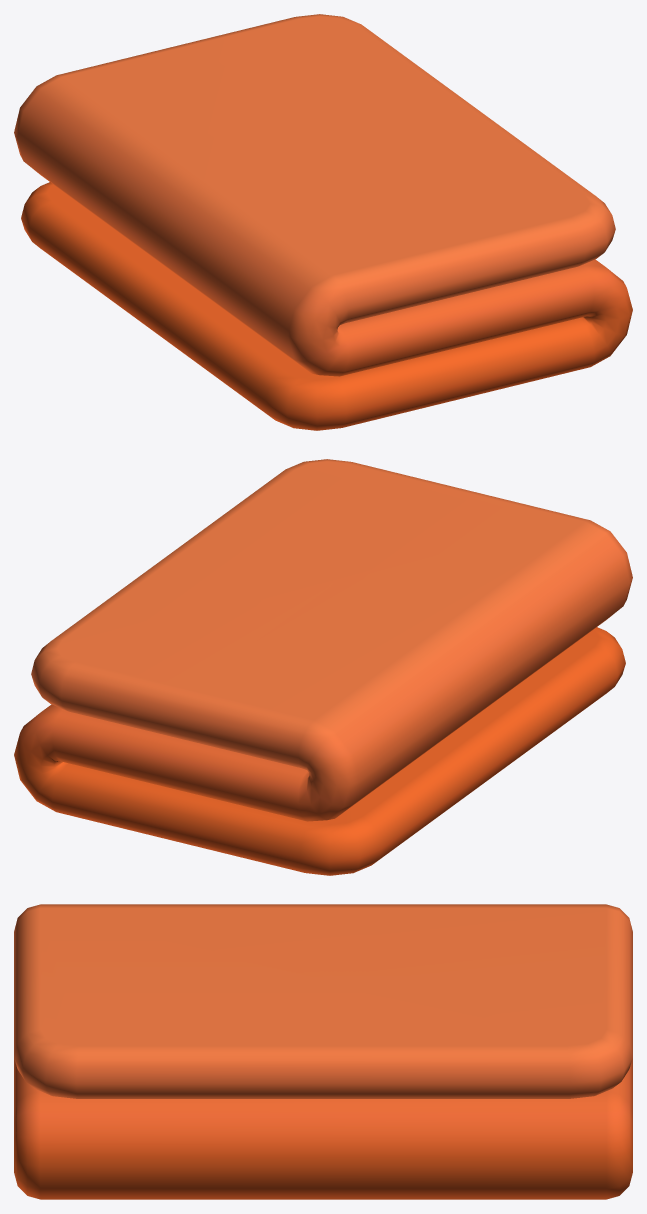
Rendered from Towel_02.glb.
The picture shows the model from 3 angles, top to bottom: view 1: azimuth 30°, elevation 25°; view 2: azimuth 150°, elevation 25°; view 3: azimuth 270°, elevation 25°; orthographic projection. The views are drawn at different scales.
Visible parts, largest first — view 1: Towel_02; view 2: Towel_02; view 3: Towel_02.
Boxes of the visible parts, x1,y1,x2,y2 form: Towel_02: [14, 14, 632, 430]; Towel_02: [14, 459, 632, 875]; Towel_02: [14, 904, 632, 1199].
Bounding box in the file's own units: 0.2089 × 0.0875 × 0.3084.
1 material, 1 textured.
